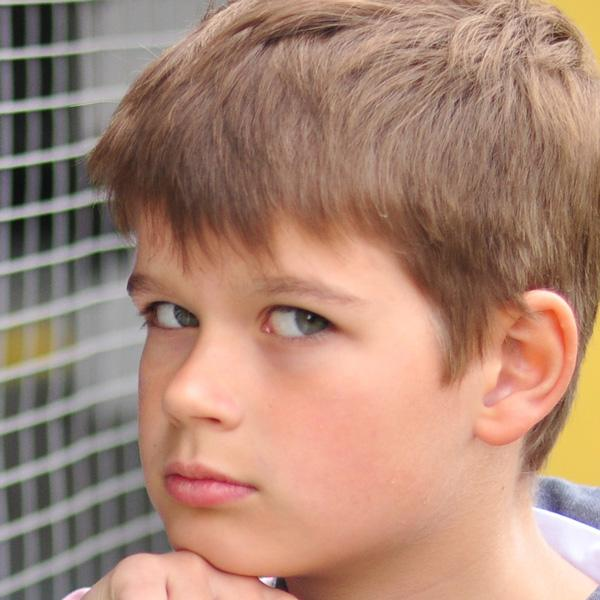Eyes: (246, 295, 343, 350), (134, 289, 207, 339)
